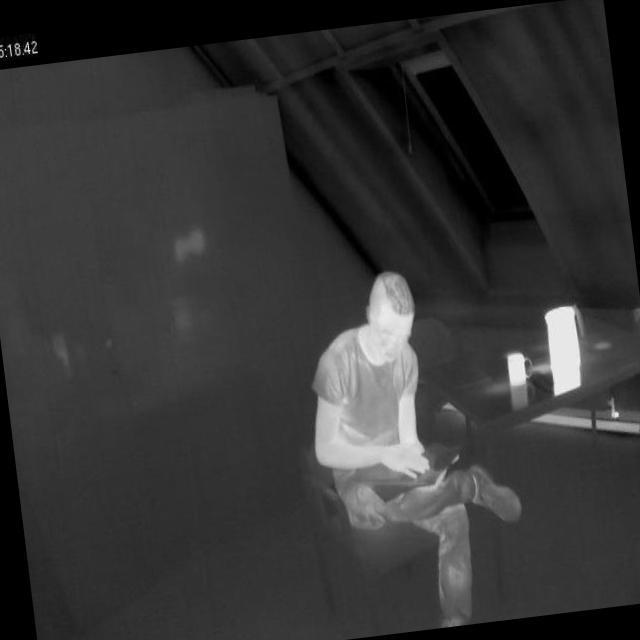person: (290, 267, 479, 640)
